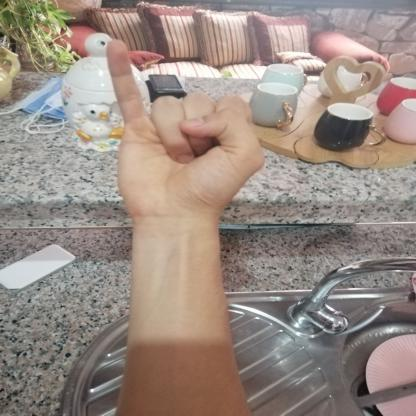MEEM: (86, 29, 280, 235)
